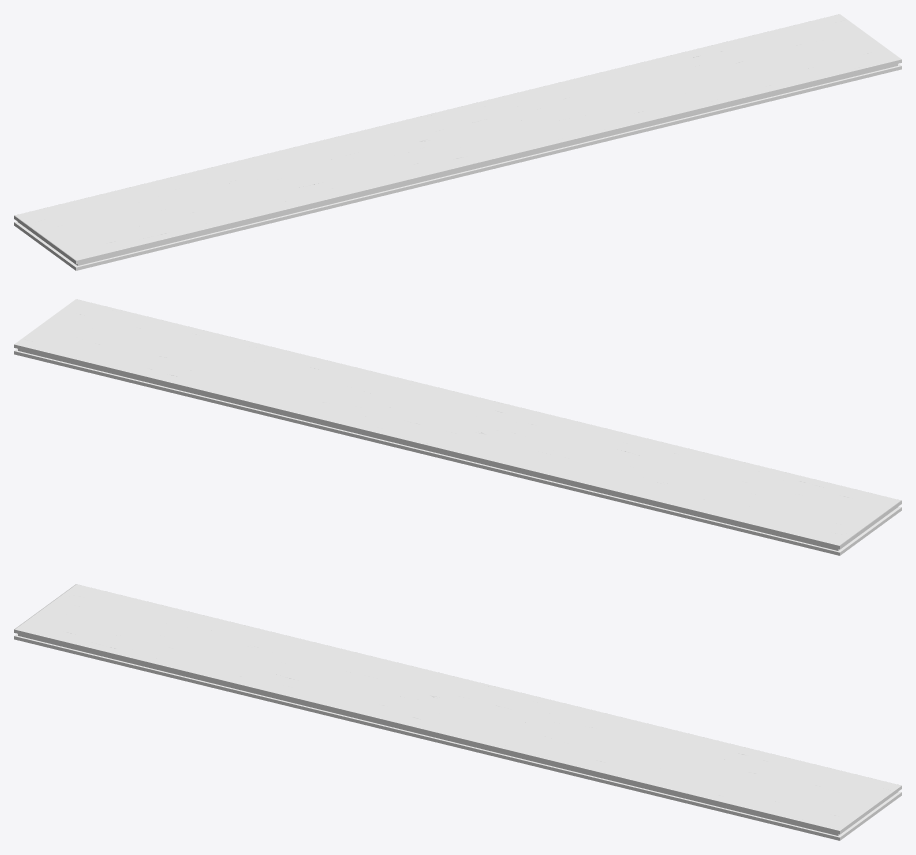
Rendered from Stand.glb.
3 renders of one model, top to bottom at view 1: azimuth 30°, elevation 25°; view 2: azimuth 150°, elevation 25°; view 3: azimuth 330°, elevation 25°, orthographic.
Visible parts, largest first — view 1: Stand; view 2: Stand; view 3: Stand.
Boxes of the visible parts, left/top/right/bottom form: Stand: left=14, top=14, right=901, bottom=270; Stand: left=14, top=299, right=901, bottom=555; Stand: left=14, top=584, right=901, bottom=840.
Bounding box in the file's own units: 3.07 × 0.0352 × 0.4.
1 material, 1 textured.
